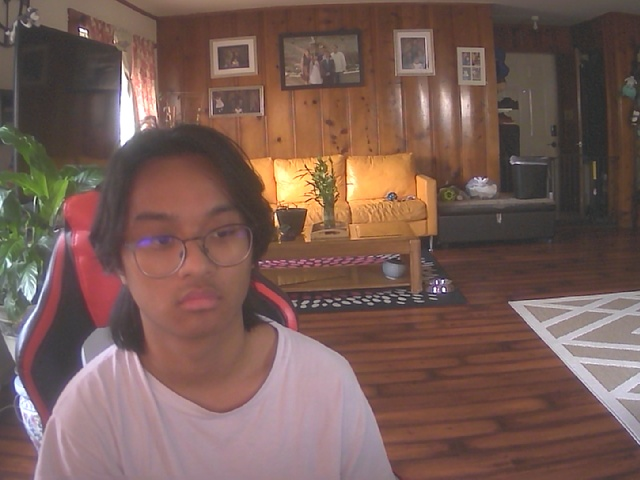neutral: (109, 145, 264, 344)
